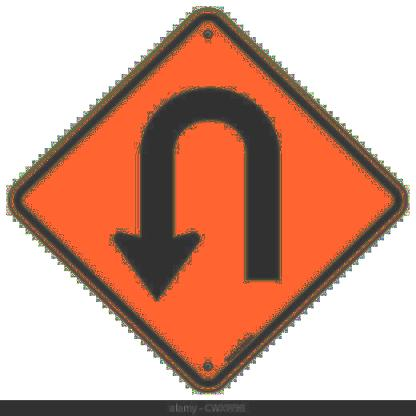U-turn: (9, 17, 413, 400)
